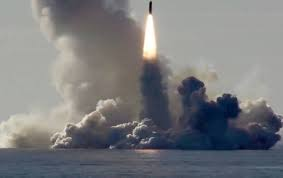ten_lua: (145, 1, 157, 21)
